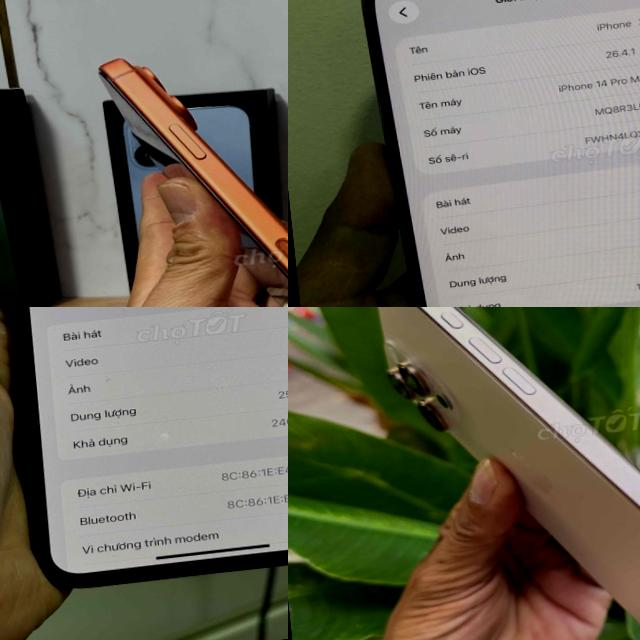gen_11: (0, 307, 288, 599)
gen_14: (354, 0, 640, 307)
gen_16: (377, 307, 640, 623)
gen_17: (86, 12, 288, 307)
